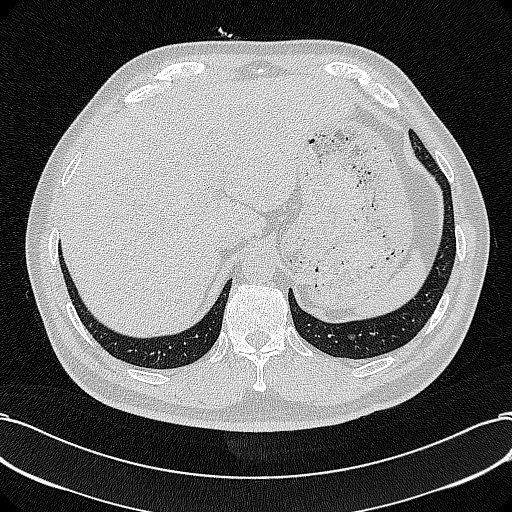nodule: (347, 334, 355, 340)
